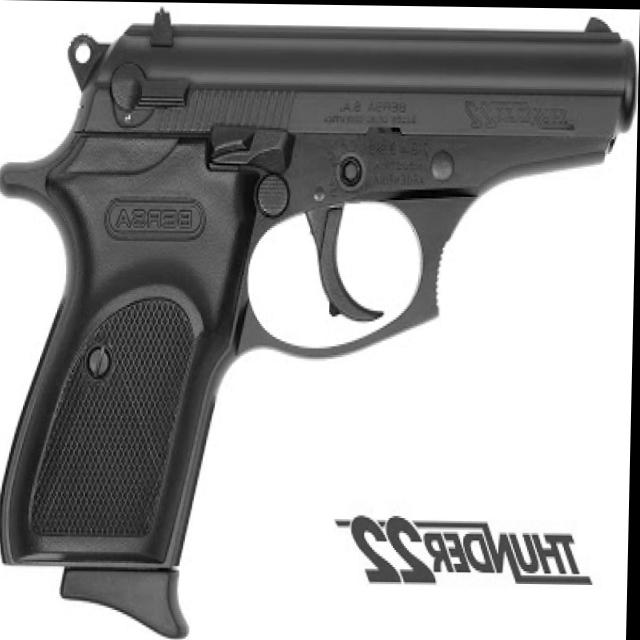handgun: (1, 7, 638, 632)
